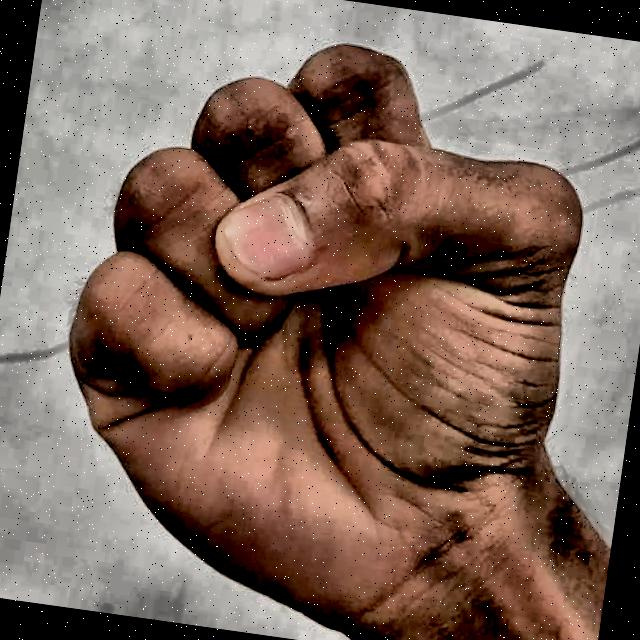Sha: (8, 0, 634, 640)
